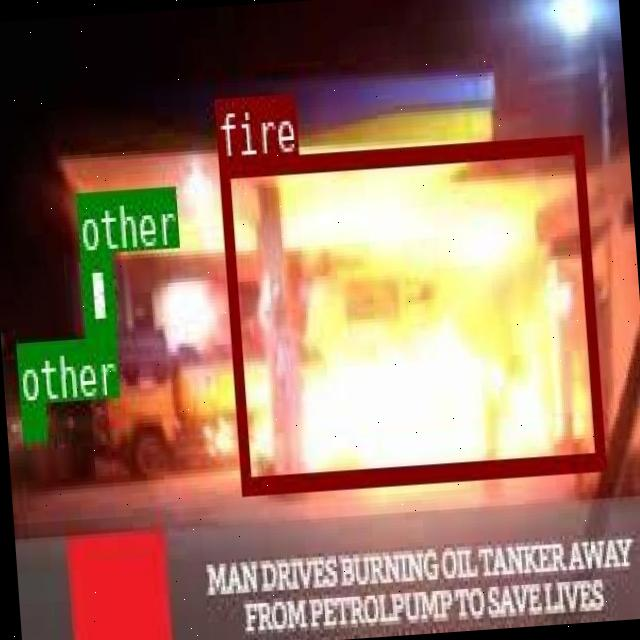fire: (217, 134, 604, 490)
